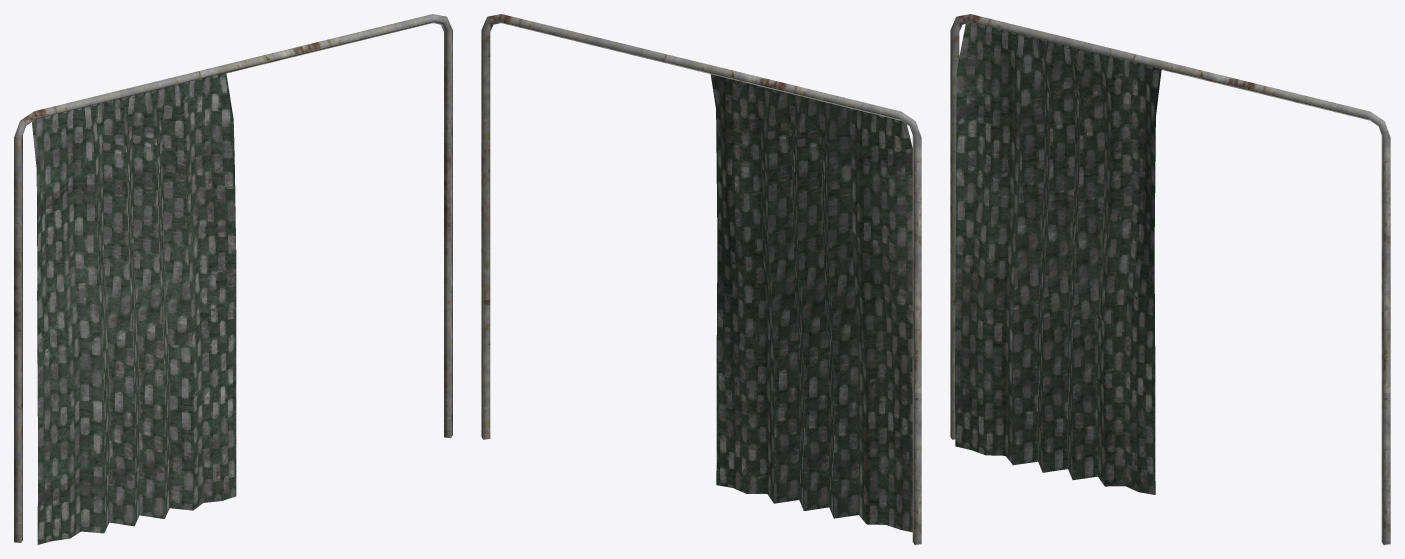
File: _Curtains_L2.FBX
3 views of the same model, side by side, from view 1: azimuth 30°, elevation 25°; view 2: azimuth 150°, elevation 25°; view 3: azimuth 330°, elevation 25° (orthographic).
Parts seen in each view (by area): view 1: _Curtains_L2; view 2: _Curtains_L2; view 3: _Curtains_L2.
Boxes of the visible parts, box(x1,y1,x2,y2) form: _Curtains_L2: box(14, 14, 452, 544); _Curtains_L2: box(481, 14, 921, 544); _Curtains_L2: box(950, 14, 1390, 544).
Bounding box in the file's own units: 200 × 186 × 13.59.
2 materials, 2 textured.
